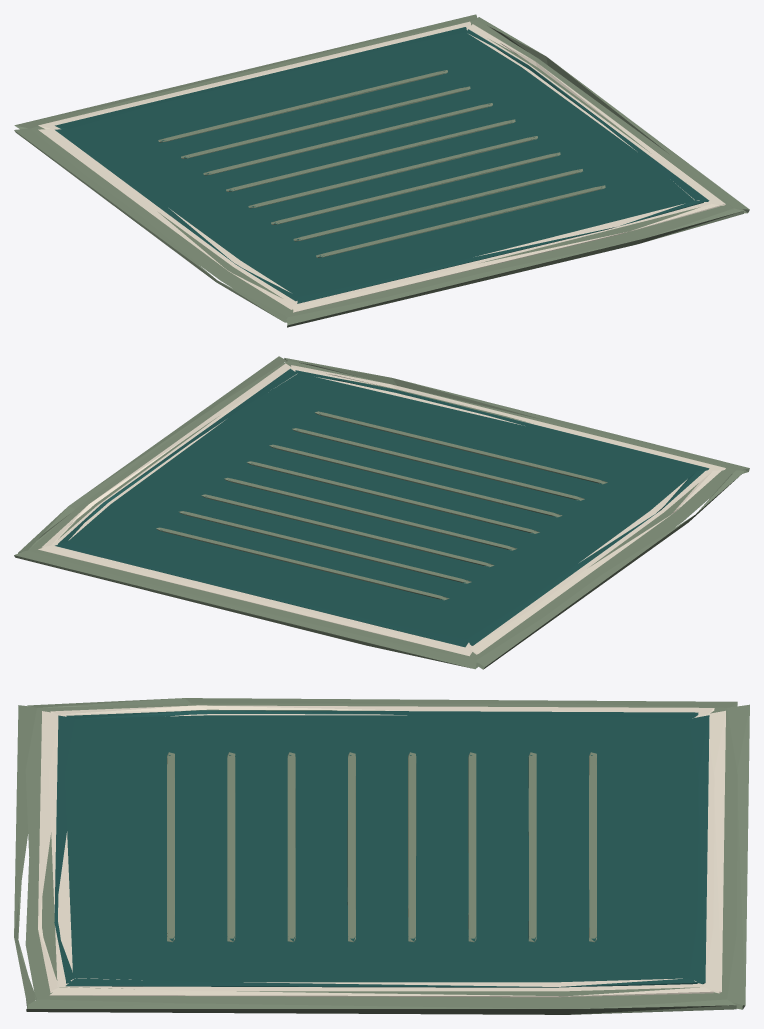
The model's file is good.glb.
3 views of the same model, one above another, from view 1: azimuth 30°, elevation 25°; view 2: azimuth 150°, elevation 25°; view 3: azimuth 270°, elevation 25° (orthographic). The views are drawn at different scales.
Visible parts, largest first — view 1: Native component 1, Native component 10, Native component 0; view 2: Native component 1, Native component 10, Native component 0; view 3: Native component 1, Native component 10, Native component 0.
Boxes of the visible parts, box(x1,y1,x2,y2) form: Native component 1: box(55, 27, 709, 303); Native component 10: box(14, 14, 749, 327); Native component 0: box(38, 21, 725, 312); Native component 1: box(55, 368, 709, 647); Native component 10: box(14, 356, 749, 669); Native component 0: box(38, 363, 725, 656); Native component 1: box(54, 710, 709, 987); Native component 10: box(14, 698, 749, 1014); Native component 0: box(38, 705, 725, 997).
Size of the model in its own units: 1.95 by 0.0422 by 1.95.
